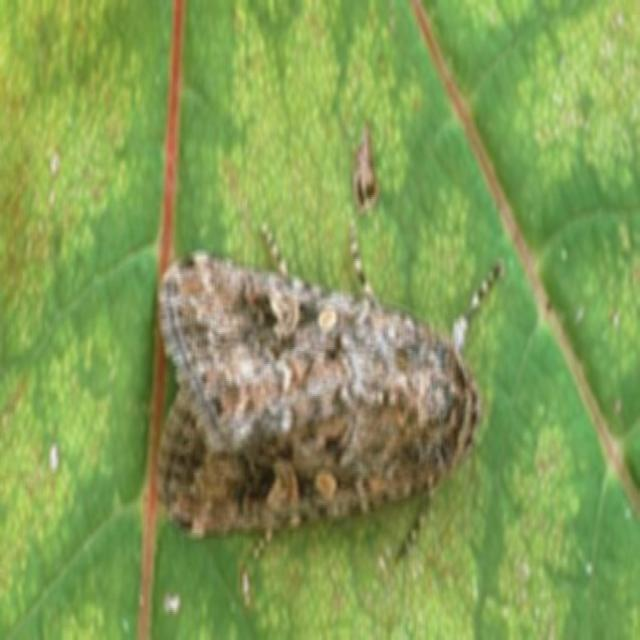army worm: (148, 243, 505, 566)
